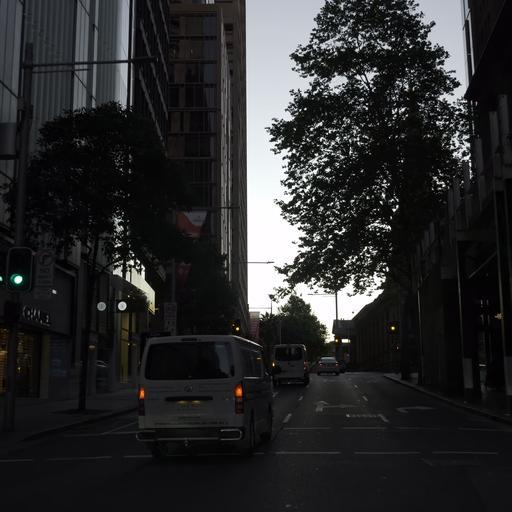Street light: (0, 51, 160, 431), (306, 289, 340, 360), (4, 245, 33, 292), (268, 293, 275, 315)
